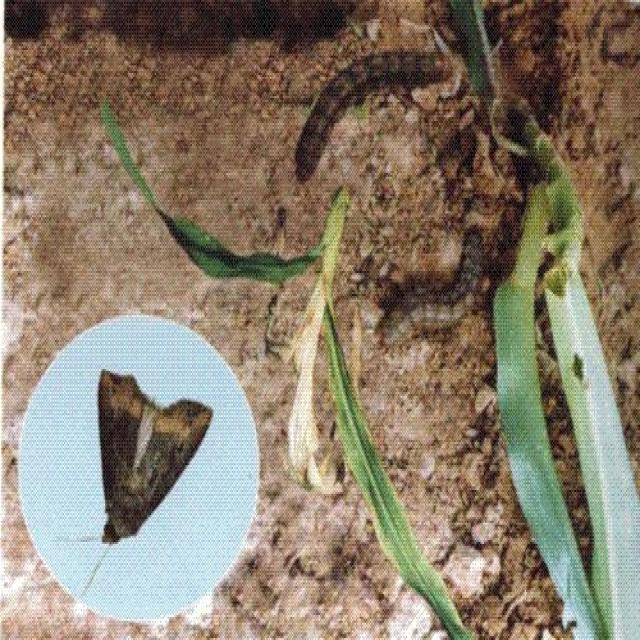black cutworm: (75, 360, 216, 558), (284, 58, 454, 194), (370, 215, 490, 361)
